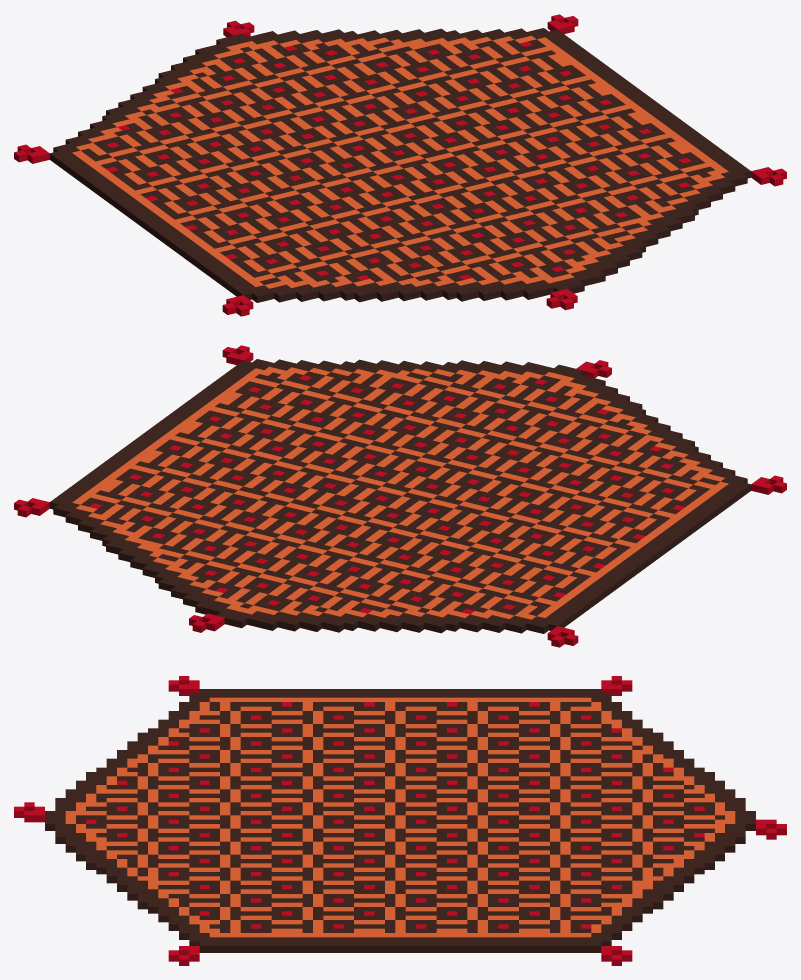
Rendered from CSG1N5S4.glb.
The picture shows the model from 3 angles, top to bottom: view 1: azimuth 30°, elevation 25°; view 2: azimuth 150°, elevation 25°; view 3: azimuth 270°, elevation 25°; orthographic projection. The views are drawn at different scales.
Parts seen in each view (by area): view 1: Curve.1262; view 2: Curve.1262; view 3: Curve.1262.
Part boxes in pixels (left/top/right/bottom): Curve.1262: left=14, top=14, right=786, bottom=316; Curve.1262: left=14, top=345, right=786, bottom=647; Curve.1262: left=14, top=676, right=786, bottom=965.
Size of the model in its own units: 0.9996 by 0.0112 by 1.15.
